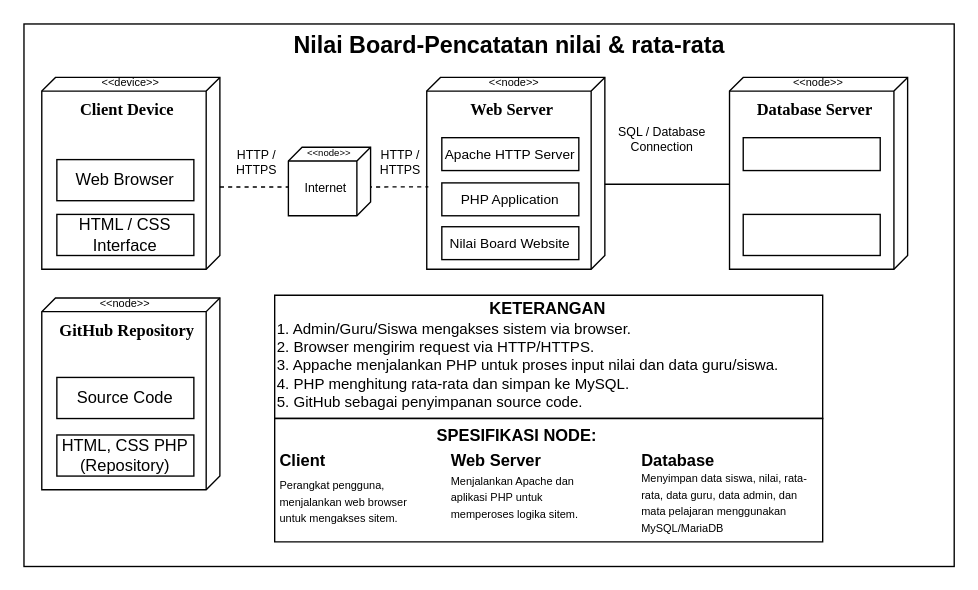
This 978x590 diagram has some shape labels left out. The shapes that lost their labels are listed below. From the top down, each one's centre as x and y in pixels, then its label:
(811,153): MySL / MariaDB
(811,234): siswa, mapel, nilai users
